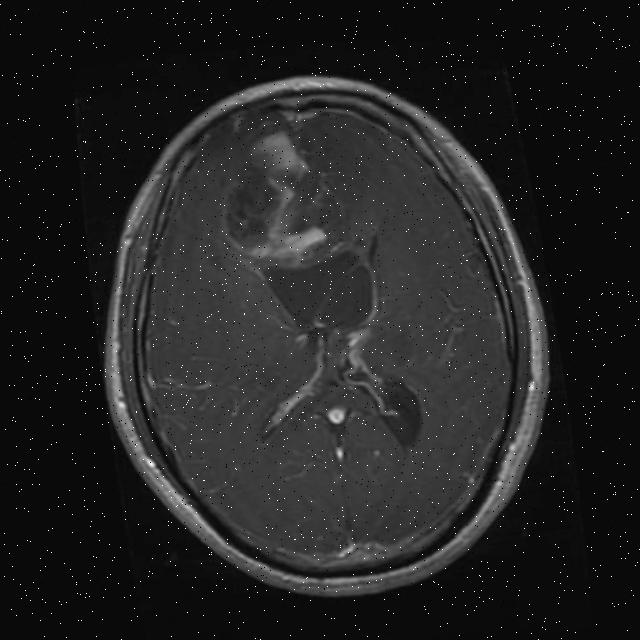Glioma: (208, 119, 352, 271)
